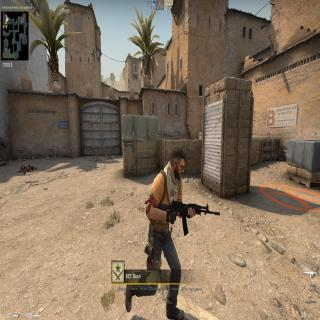T-Head: (169, 145, 186, 184)
